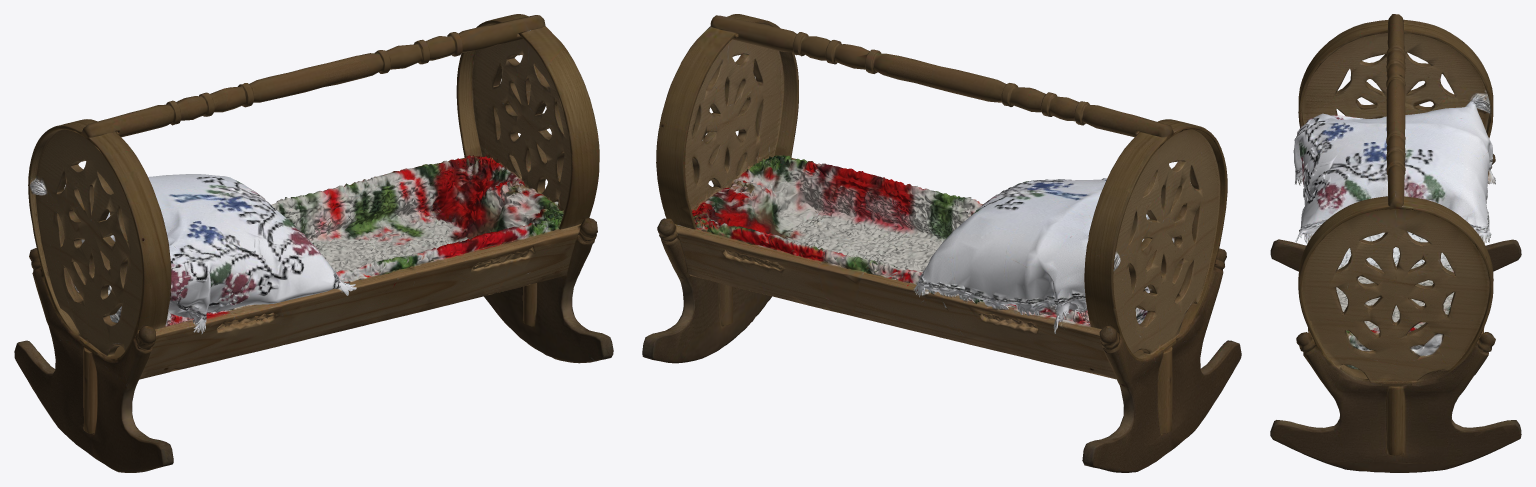
Rendered from kolijevka.glb.
3 renders of one model, left to right at view 1: azimuth 30°, elevation 25°; view 2: azimuth 150°, elevation 25°; view 3: azimuth 270°, elevation 25°, orthographic. The views are drawn at different scales.
Bounding box in the file's own units: 1.9 × 1.31 × 1.07.
1 material, 1 textured.
